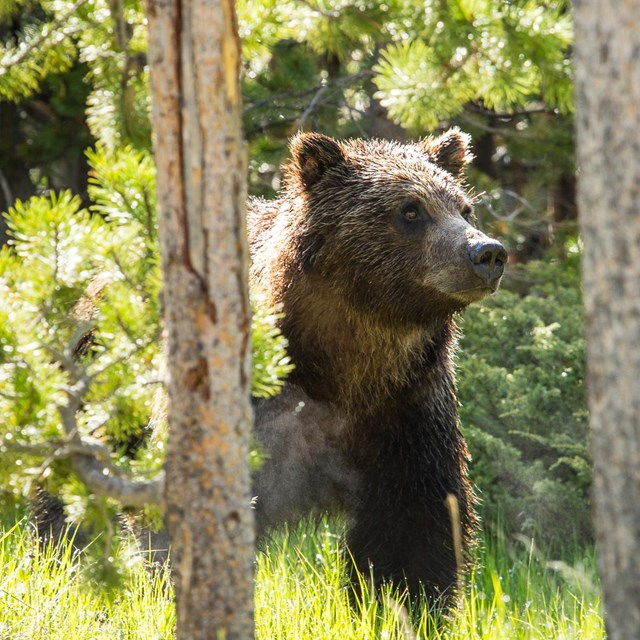bear: (282, 122, 519, 310)
